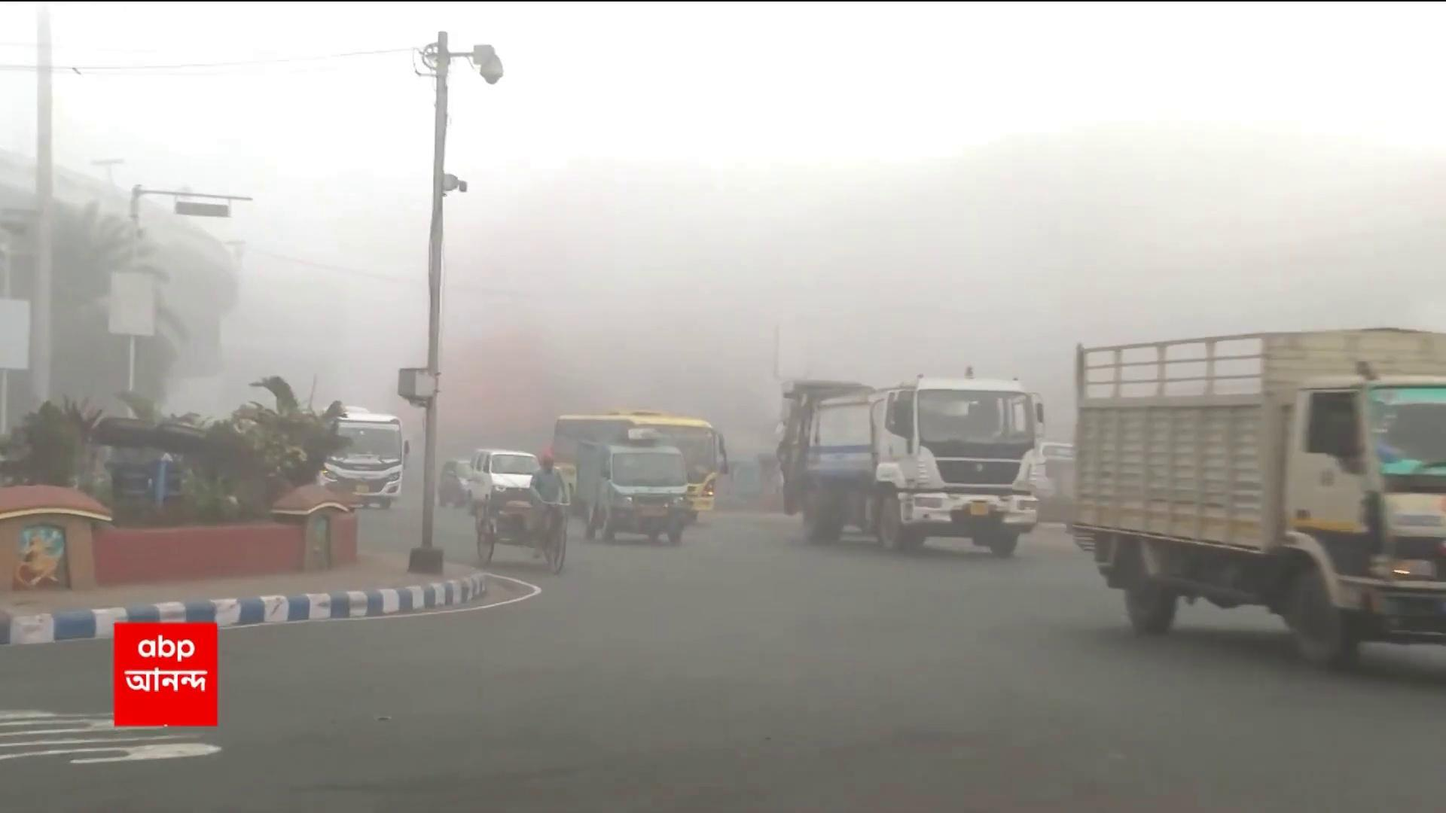Bus: (546, 405, 721, 519)
Car: (463, 441, 540, 505)
Truck: (1065, 325, 1441, 654), (788, 362, 1049, 559), (580, 430, 706, 556)
